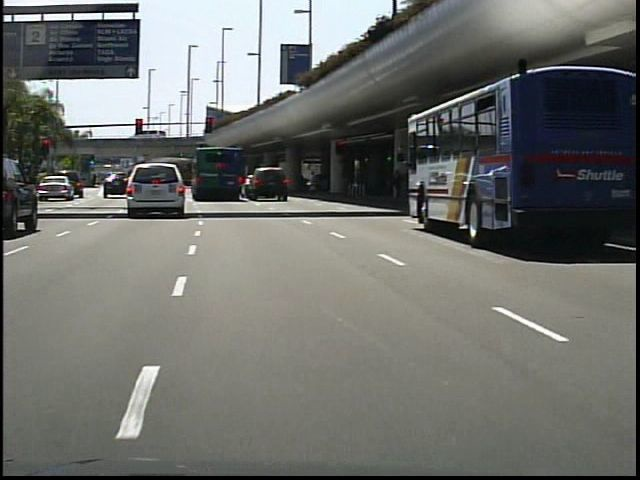person: (309, 163, 329, 200)
